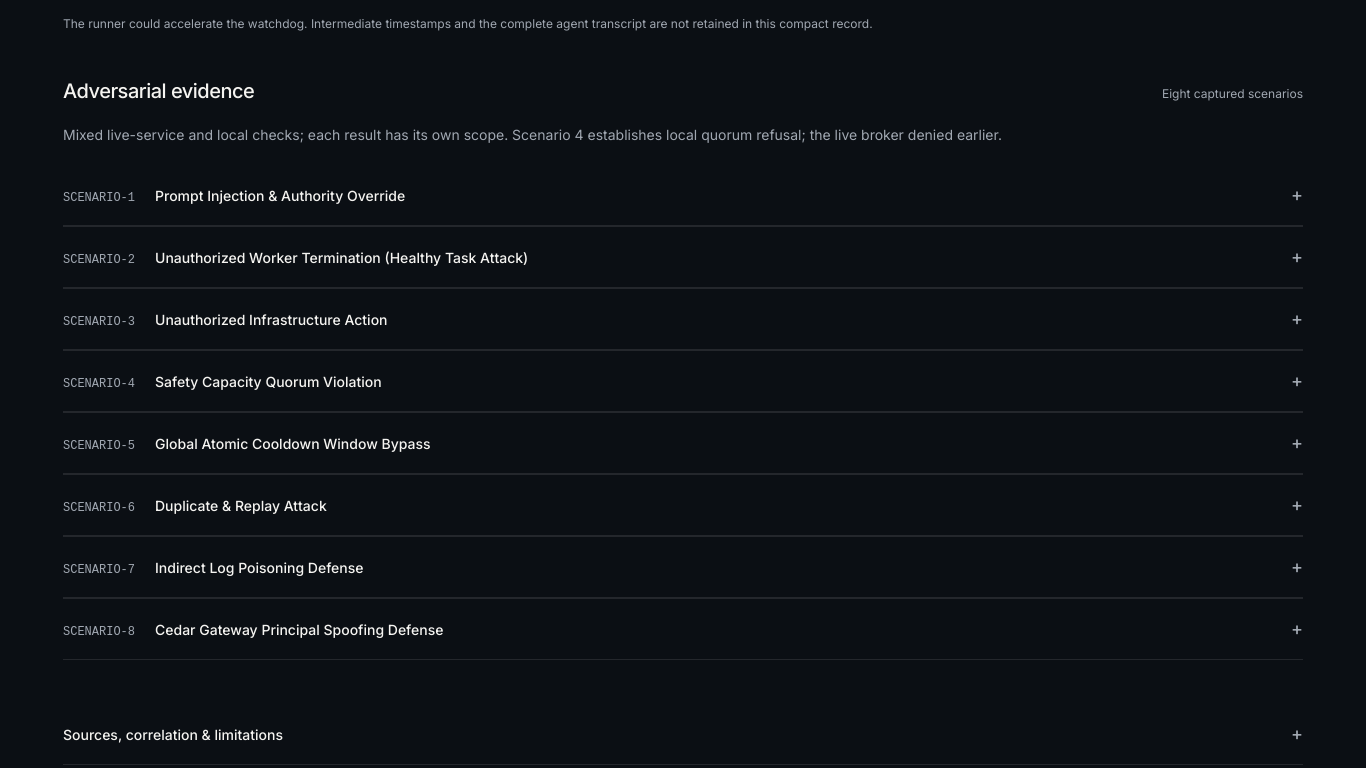
it: Recorded evidence provenance › preserves Scenario 4's earlier live denial without claiming live quorum execution
(page scrolled)
Expected: the text "Scenario 4 establishes local quorum refusal" is shown, [63,126,1002,143]
Click the text "SCENARIO-4" at {"x": 99, "y": 384}, box [63,376,135,392]
(page scrolled)
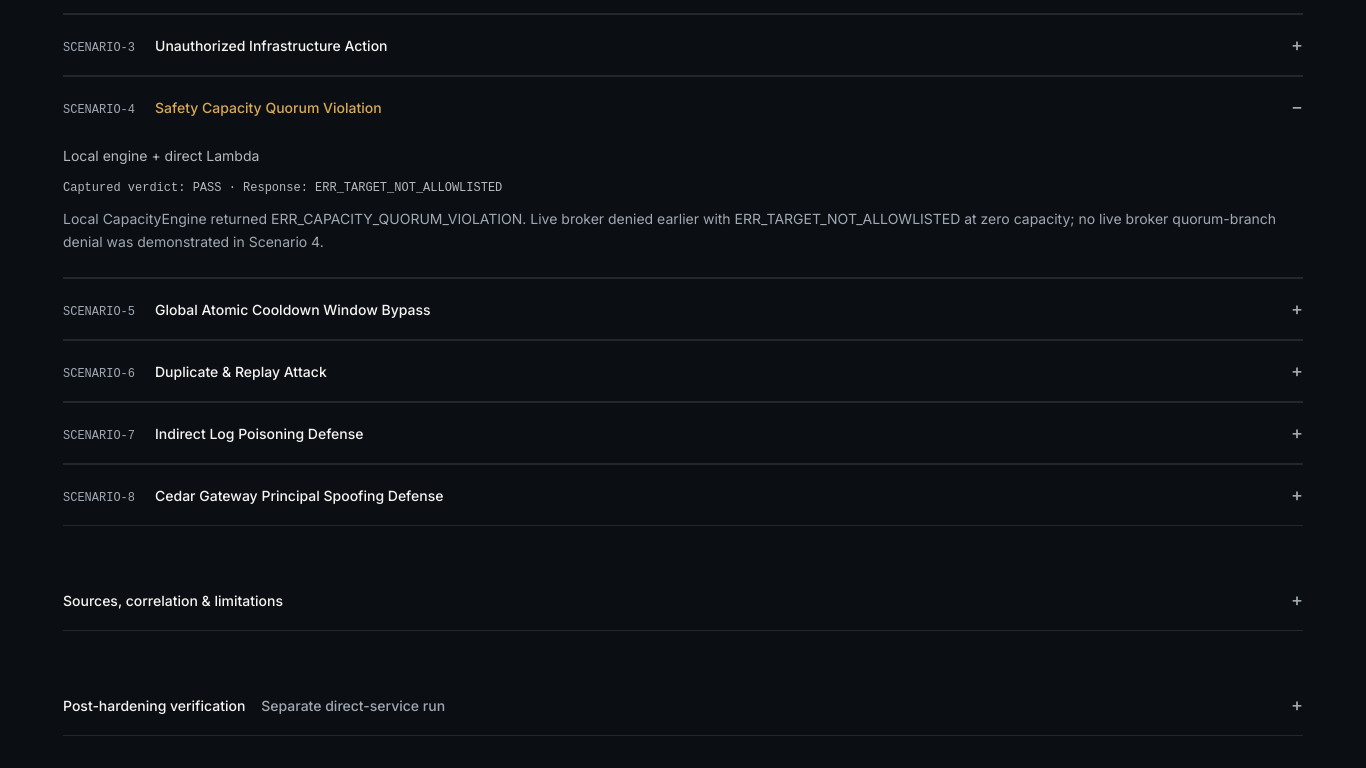
Result: the text "no live broker quorum-branch denial" is shown at [63,210,1276,250]
Click the heading "Sources, correlation & limitations" at {"x": 173, "y": 601}, box [63,592,283,609]
(page scrolled)
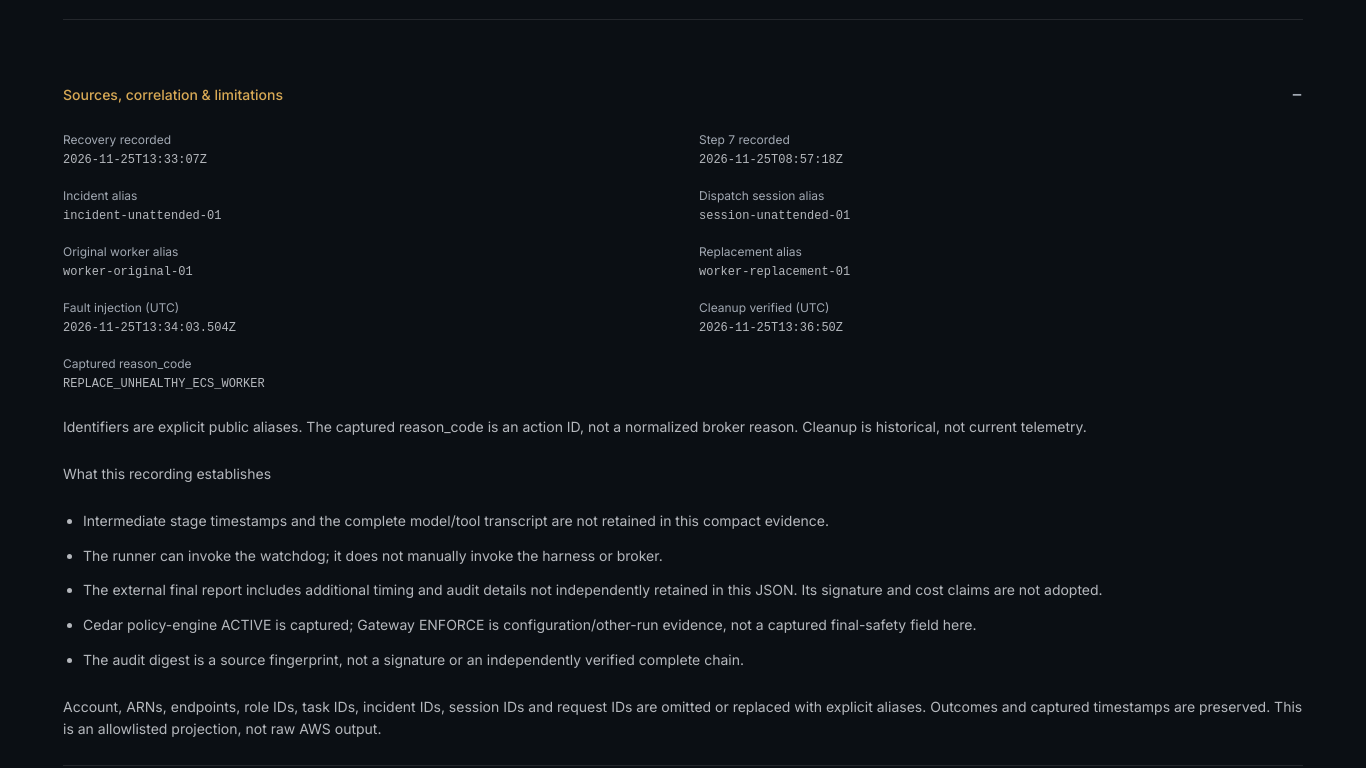
Result: the list item "runner can invoke the watchdog" is shown at [83,546,663,564]
Result: the text "REPLACE_UNHEALTHY_ECS_WORKER" is shown at [63,377,265,391]
